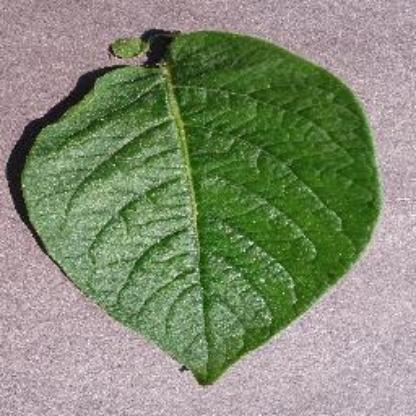Healthy-plant: (19, 31, 376, 387)
